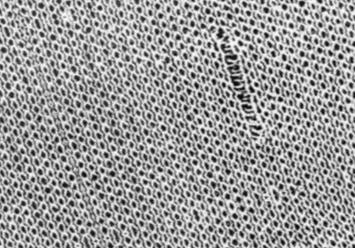slub: (213, 22, 271, 146)
